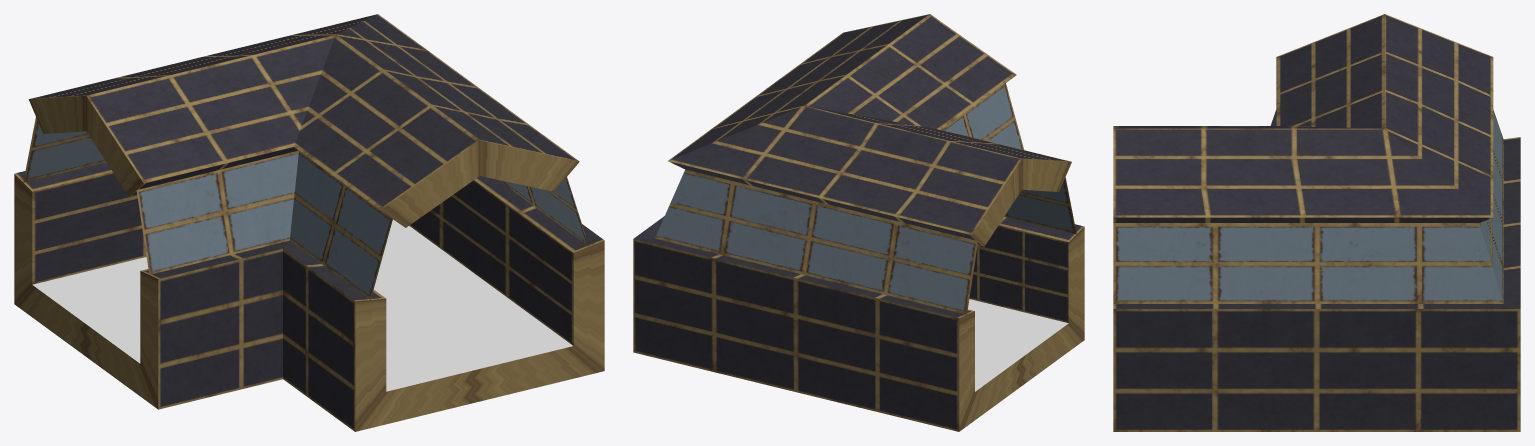
The model's file is Hall-L.fbx.
The picture shows the model from 3 angles, left to right: view 1: azimuth 30°, elevation 25°; view 2: azimuth 150°, elevation 25°; view 3: azimuth 270°, elevation 25°; orthographic projection. The views are drawn at different scales.
Parts seen in each view (by area): view 1: HallWayLWindowed; view 2: HallWayLWindowed; view 3: HallWayLWindowed.
Boxes of the visible parts, left/top/right/bottom form: HallWayLWindowed: left=14, top=14, right=604, bottom=431; HallWayLWindowed: left=633, top=14, right=1084, bottom=431; HallWayLWindowed: left=1113, top=14, right=1520, bottom=431.
Size of the model in its own units: 600 by 400 by 600.
